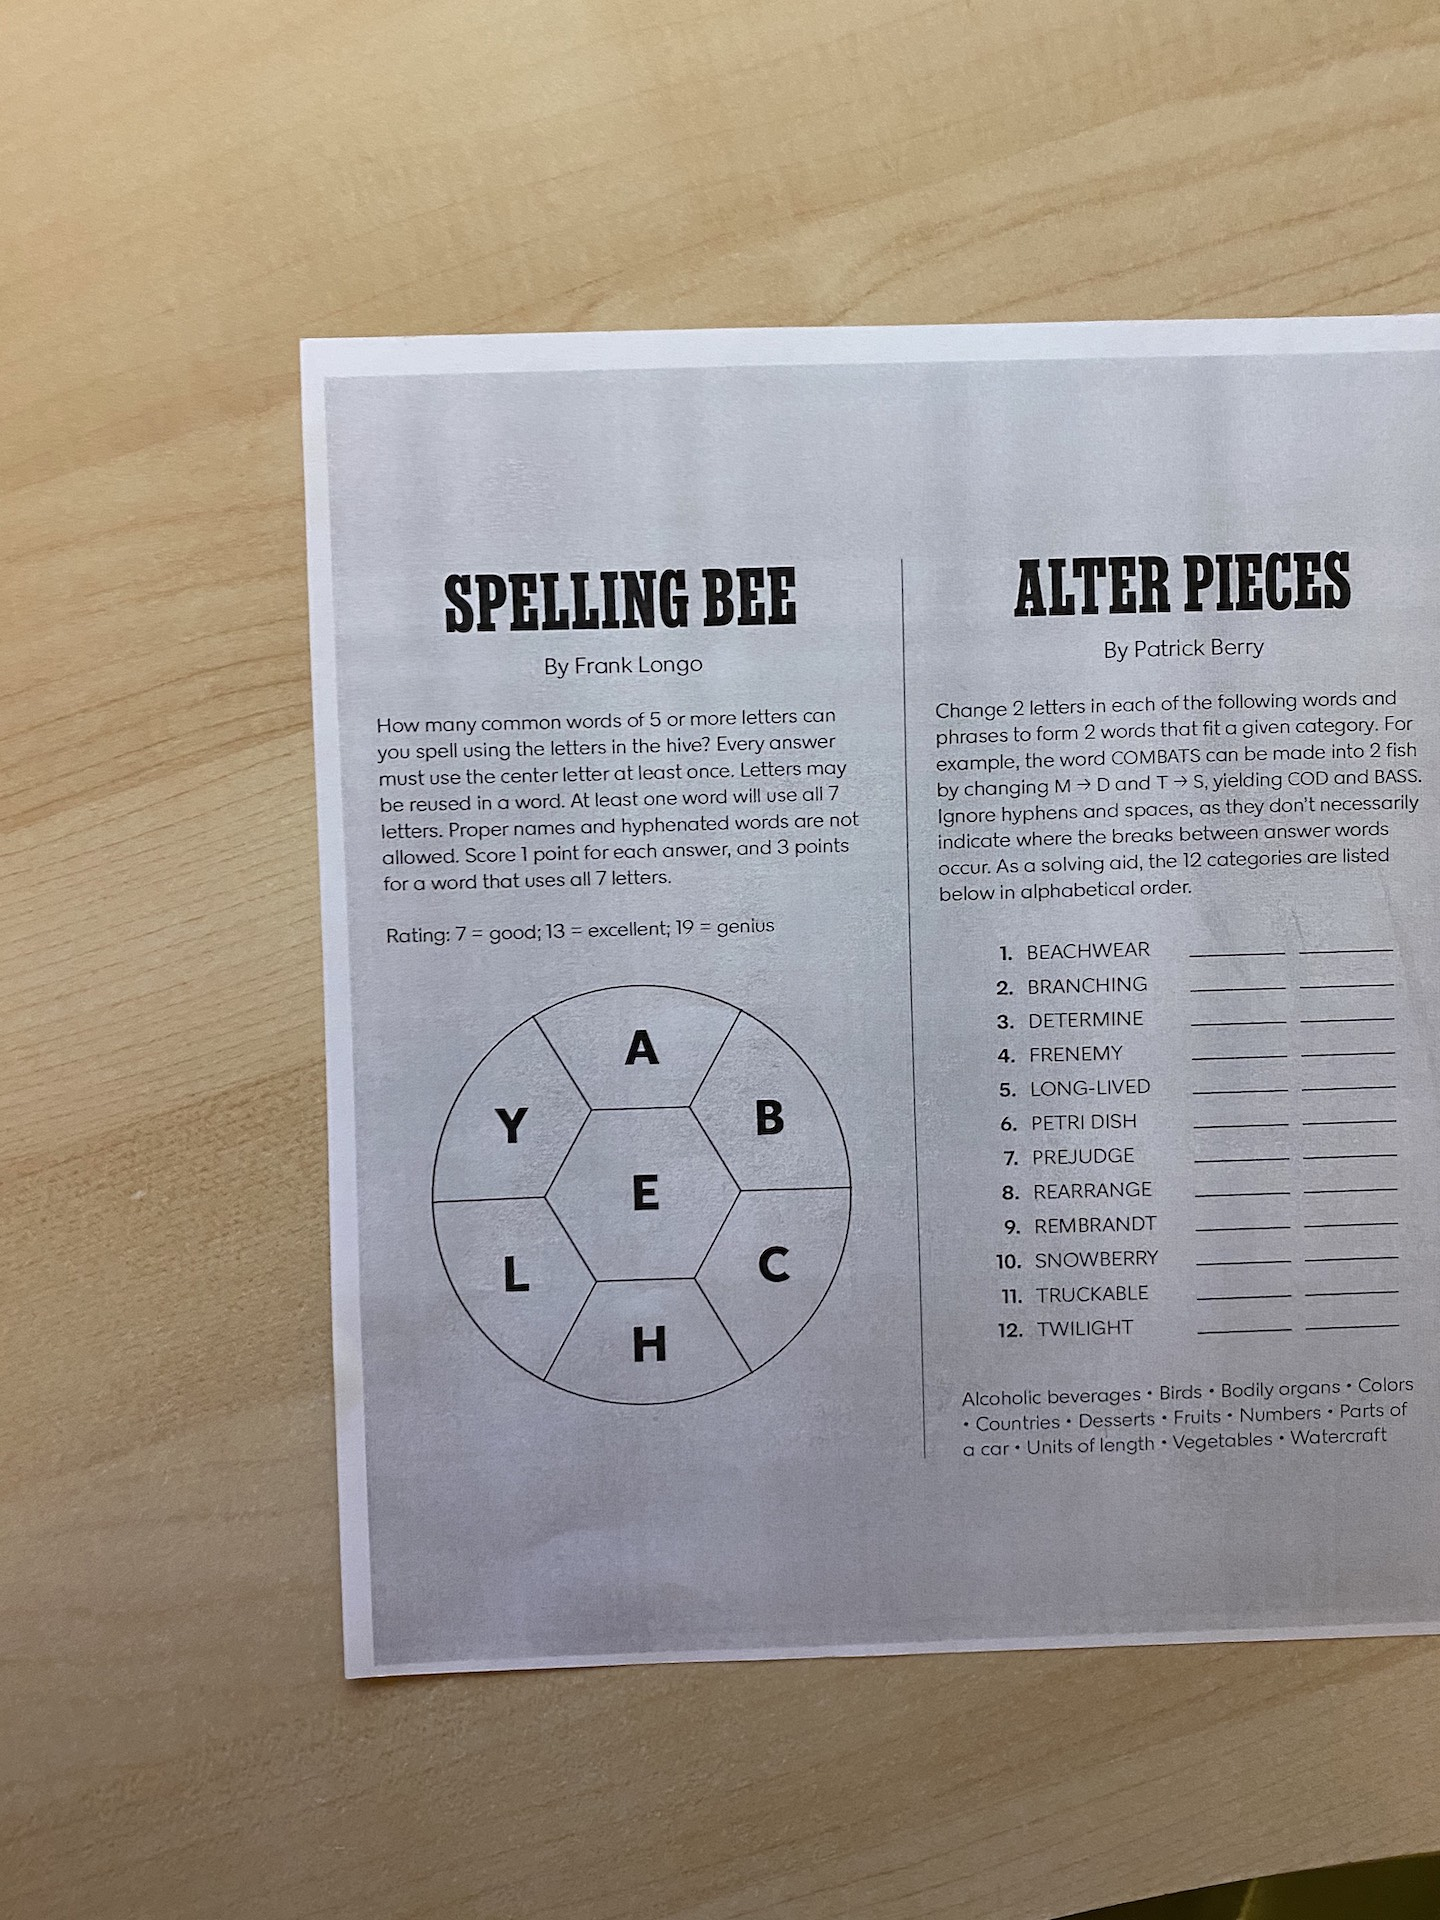PrintBoard: (410, 977, 867, 1423)
